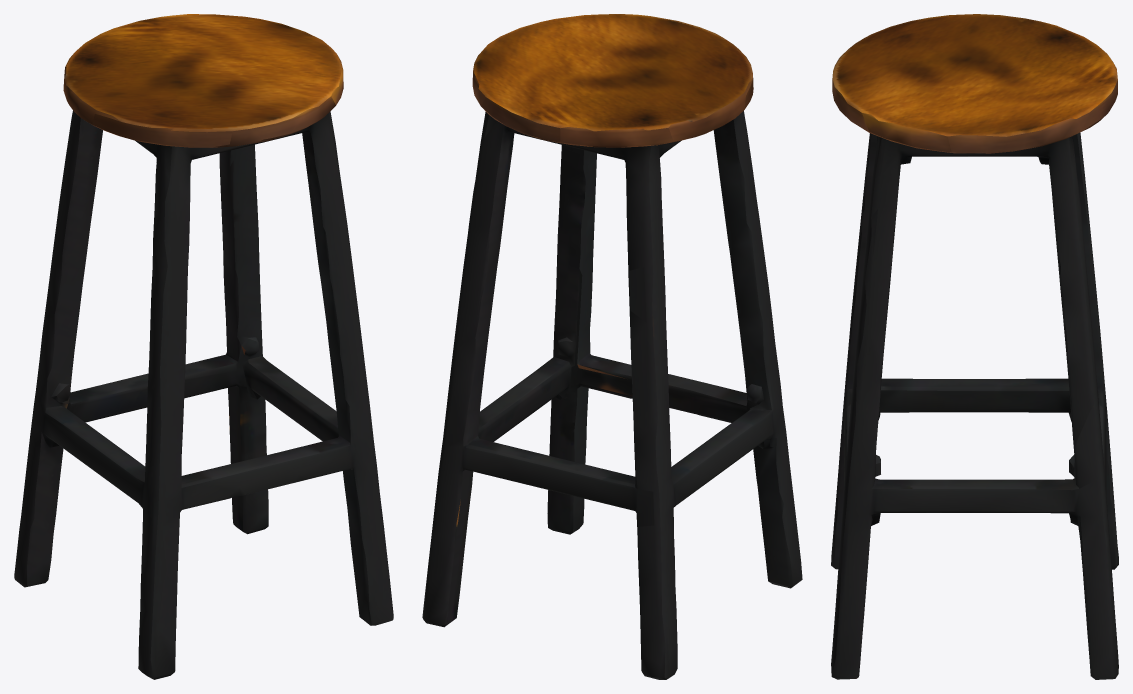
The model's file is Tabouret_3D_textured.glb.
The picture shows the model from 3 angles, left to right: view 1: azimuth 30°, elevation 25°; view 2: azimuth 150°, elevation 25°; view 3: azimuth 270°, elevation 25°; orthographic projection. The views are drawn at different scales.
Parts seen in each view (by area): view 1: temp_mesh.ply; view 2: temp_mesh.ply; view 3: temp_mesh.ply.
Part boxes in pixels (left/top/right/bottom): temp_mesh.ply: left=14, top=14, right=393, bottom=679; temp_mesh.ply: left=422, top=14, right=802, bottom=679; temp_mesh.ply: left=831, top=14, right=1118, bottom=679.
Bounding box in the file's own units: 0.9577 × 1.97 × 0.9437.
1 material, 1 textured.
